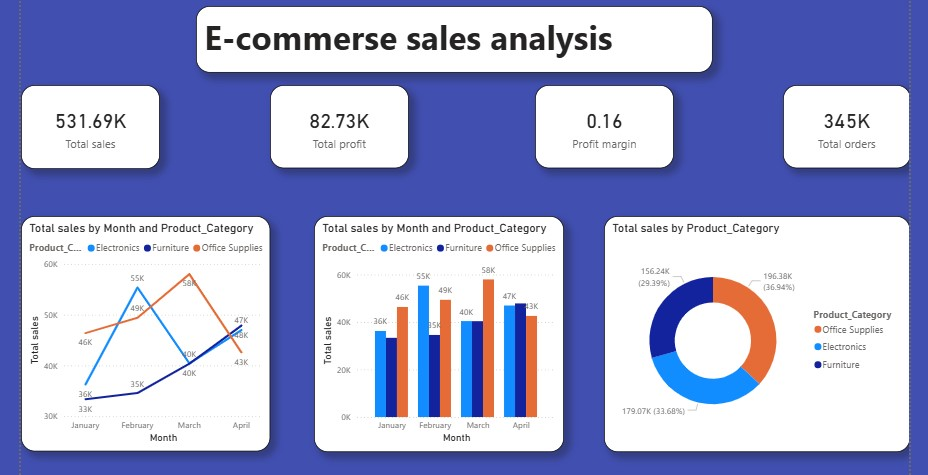

The dashboard page shown, as its layout file describes it:
{"tool":"powerbi","page":{"name":"Page 1","canvas":[1280,720],"ordinal":0},"visuals":[{"type":"card","fields":{"Values":["ecommerce_powerbi_practice_dataset (2).Total profit"]},"box":[359.3,128,200,120],"z":0},{"type":"card","fields":{"Values":["ecommerce_powerbi_practice_dataset (2).total sales"]},"box":[0,128,200,121],"z":1000},{"type":"card","fields":{"Values":["ecommerce_powerbi_practice_dataset (2).Profit margin"]},"box":[740.4,128,200,120],"z":2000},{"type":"card","fields":{"Values":["ecommerce_powerbi_practice_dataset (2).Total orders"]},"box":[1096.7,128,184,120],"z":3000},{"type":"lineChart","fields":{"Category":["ecommerce_powerbi_practice_dataset (2).Order_Date.Variation.Date Hierarchy.Month"],"Y":["ecommerce_powerbi_practice_dataset (2).total sales"],"Series":["ecommerce_powerbi_practice_dataset (2).Product_Category"]},"box":[0,317.1,359.3,338.9],"z":4000},{"type":"clusteredColumnChart","fields":{"Category":["ecommerce_powerbi_practice_dataset (2).Order_Date.Variation.Date Hierarchy.Month"],"Y":["ecommerce_powerbi_practice_dataset (2).total sales"],"Series":["ecommerce_powerbi_practice_dataset (2).Product_Category"]},"box":[421.9,316.8,360,339.8],"z":5000},{"type":"donutChart","fields":{"Category":["ecommerce_powerbi_practice_dataset (2).Product_Category"],"Y":["ecommerce_powerbi_practice_dataset (2).total sales"]},"box":[839.5,316.8,440.6,339.8],"z":7000},{"type":"textbox","box":[252,14.4,744.5,96.5],"z":14000}]}

Visuals, with their boxes on the page's 1280x720 design canvas (x1, y1, x2, y2). These are canvas units, not pixel positions in the 928x475 screenshot, which may show the page scaled, cropped or inside an application window:
card - ecommerce_powerbi_practice_dataset (2).Total profit: {"left": 359, "top": 128, "right": 559, "bottom": 248}
card - ecommerce_powerbi_practice_dataset (2).total sales: {"left": 0, "top": 128, "right": 200, "bottom": 249}
card - ecommerce_powerbi_practice_dataset (2).Profit margin: {"left": 740, "top": 128, "right": 940, "bottom": 248}
card - ecommerce_powerbi_practice_dataset (2).Total orders: {"left": 1097, "top": 128, "right": 1281, "bottom": 248}
lineChart - ecommerce_powerbi_practice_dataset (2).Order_Date.Variation.Date Hierarchy.Month x ecommerce_powerbi_practice_dataset (2).total sales: {"left": 0, "top": 317, "right": 359, "bottom": 656}
clusteredColumnChart - ecommerce_powerbi_practice_dataset (2).Order_Date.Variation.Date Hierarchy.Month x ecommerce_powerbi_practice_dataset (2).total sales: {"left": 422, "top": 317, "right": 782, "bottom": 657}
donutChart - ecommerce_powerbi_practice_dataset (2).Product_Category x ecommerce_powerbi_practice_dataset (2).total sales: {"left": 840, "top": 317, "right": 1280, "bottom": 657}
textbox: {"left": 252, "top": 14, "right": 996, "bottom": 111}
